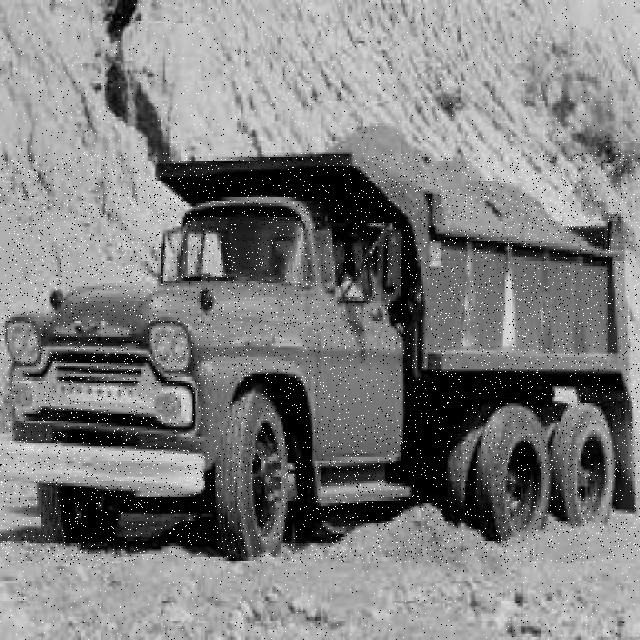Box Truck: (0, 153, 640, 563)
